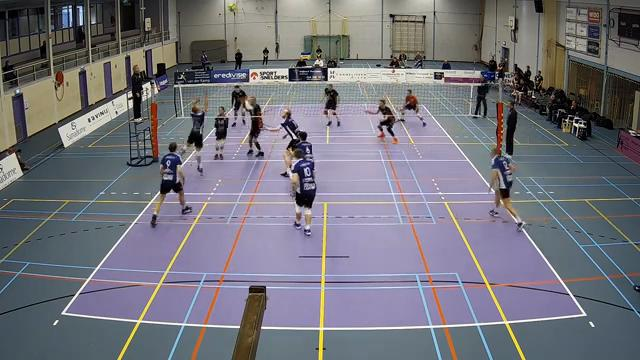Player: (151, 142, 191, 226), (489, 148, 524, 230), (180, 92, 207, 172), (291, 149, 315, 235), (281, 130, 312, 176), (366, 99, 397, 143), (280, 109, 299, 176), (245, 96, 263, 156), (400, 90, 425, 125), (214, 106, 228, 159), (323, 84, 339, 125), (231, 85, 246, 126)
ball: (228, 0, 237, 12)
